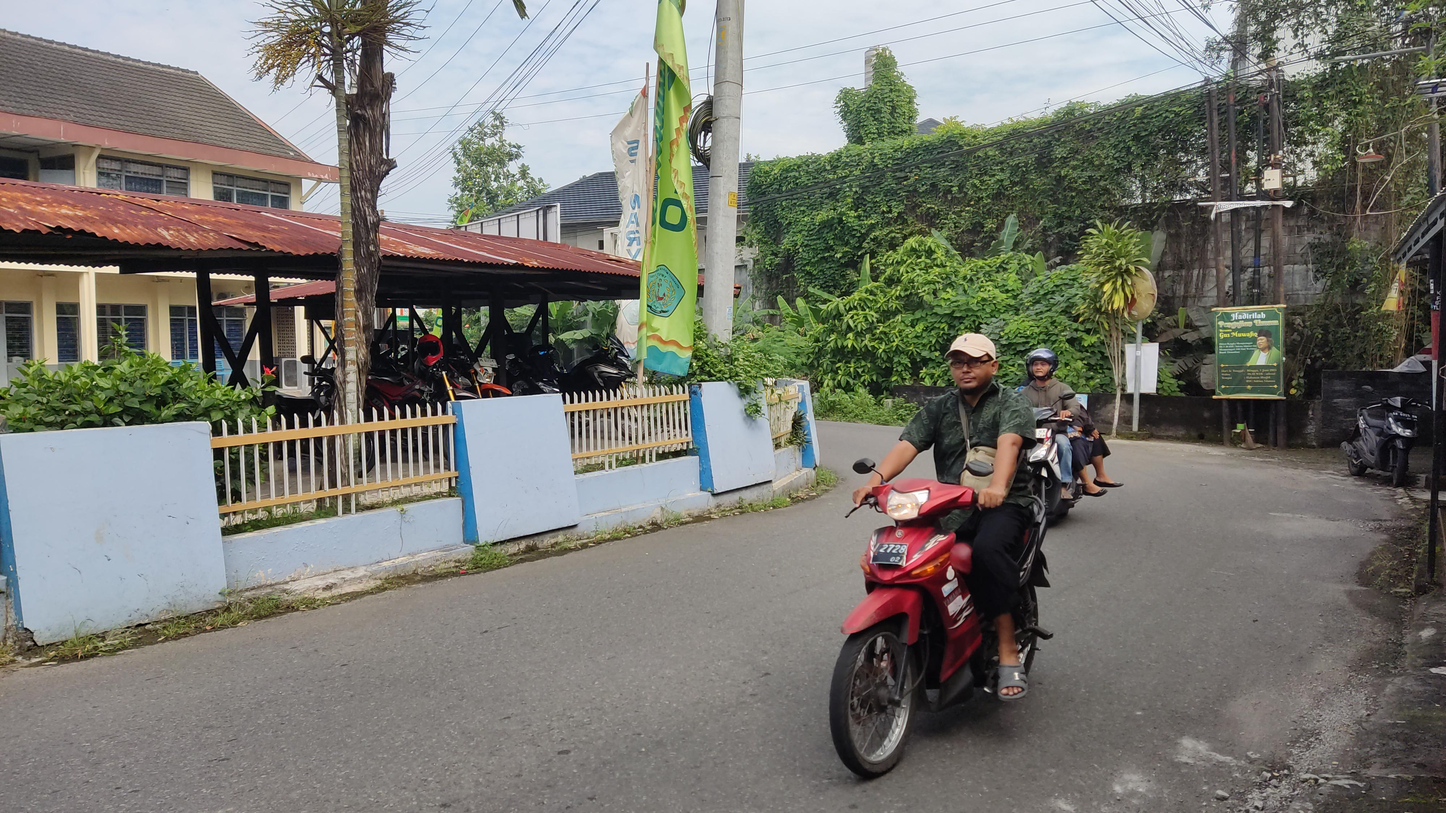helm: (1021, 337, 1060, 388)
nohelm: (942, 322, 1003, 400)
riding: (811, 312, 1072, 782)
